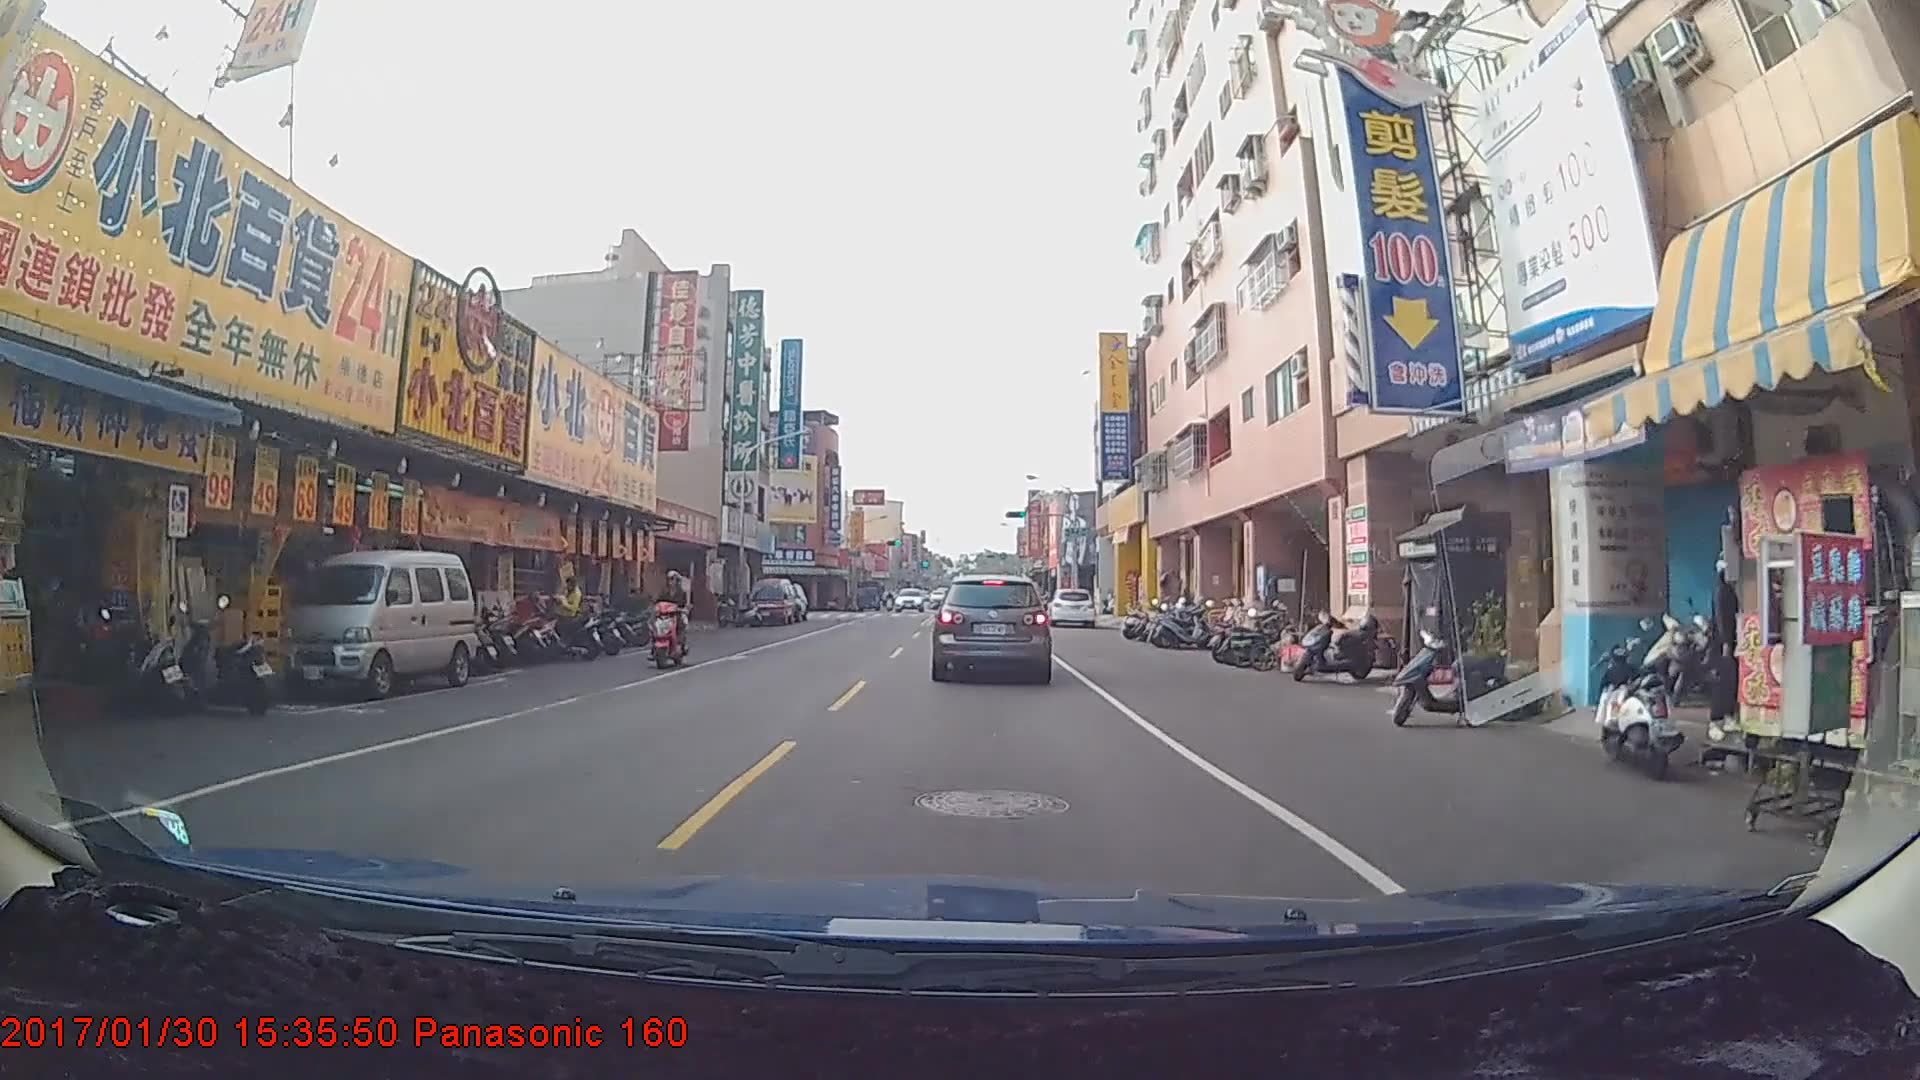pedestrian: (547, 569, 584, 653)
rider: (643, 566, 698, 666)
vehicle: (282, 552, 475, 693), (933, 575, 1050, 681), (745, 577, 796, 624), (1044, 586, 1095, 630), (892, 580, 922, 603)
